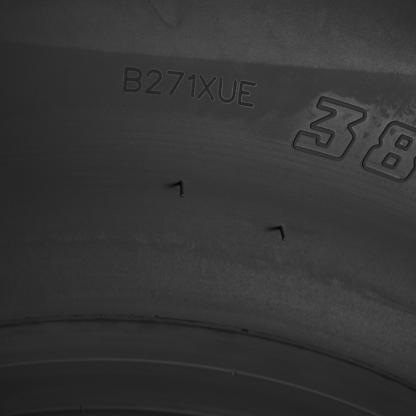ocr: (122, 65, 258, 110)
